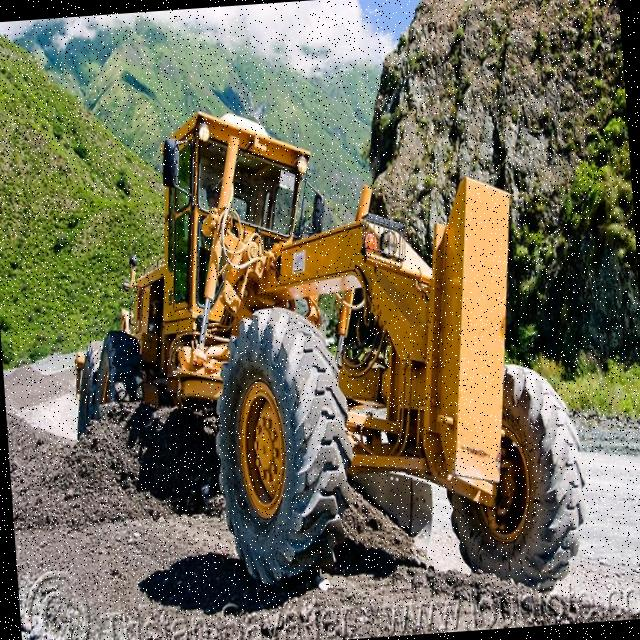Grader: (45, 79, 606, 618)
